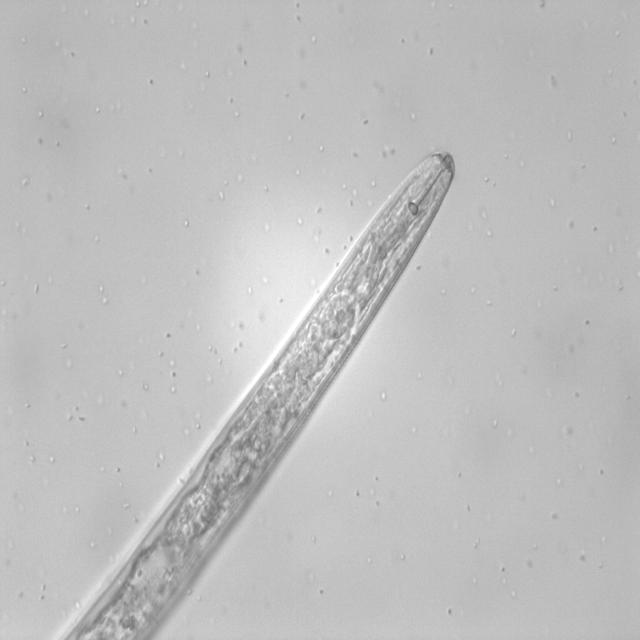Radopholus: (51, 137, 459, 638)
